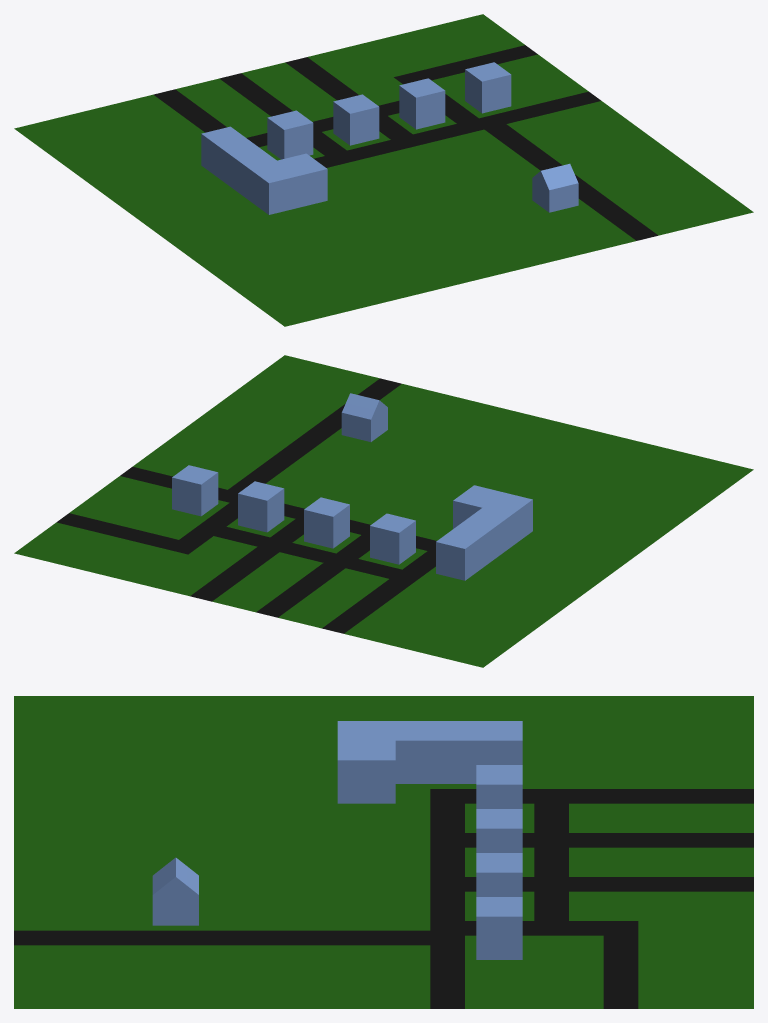
File: town2.glb
3 views of the same model, one above another, from view 1: azimuth 30°, elevation 25°; view 2: azimuth 150°, elevation 25°; view 3: azimuth 270°, elevation 25° (orthographic). The views are drawn at different scales.
Visible parts, largest first — view 1: Plane.003, Plane.001, Plane; view 2: Plane.003, Plane.001, Plane; view 3: Plane.003, Plane, Plane.001.
Part boxes in pixels (box(x1,y1,x2,y2)): Plane.003: box(14, 14, 753, 326); Plane.001: box(201, 62, 578, 214); Plane: box(153, 45, 657, 240); Plane.003: box(14, 355, 753, 667); Plane.001: box(172, 393, 532, 580); Plane: box(56, 378, 436, 633); Plane.003: box(14, 696, 753, 1008); Plane: box(14, 789, 753, 1008); Plane.001: box(152, 721, 522, 959).
Size of the model in its own units: 650 by 47.4 by 650.
